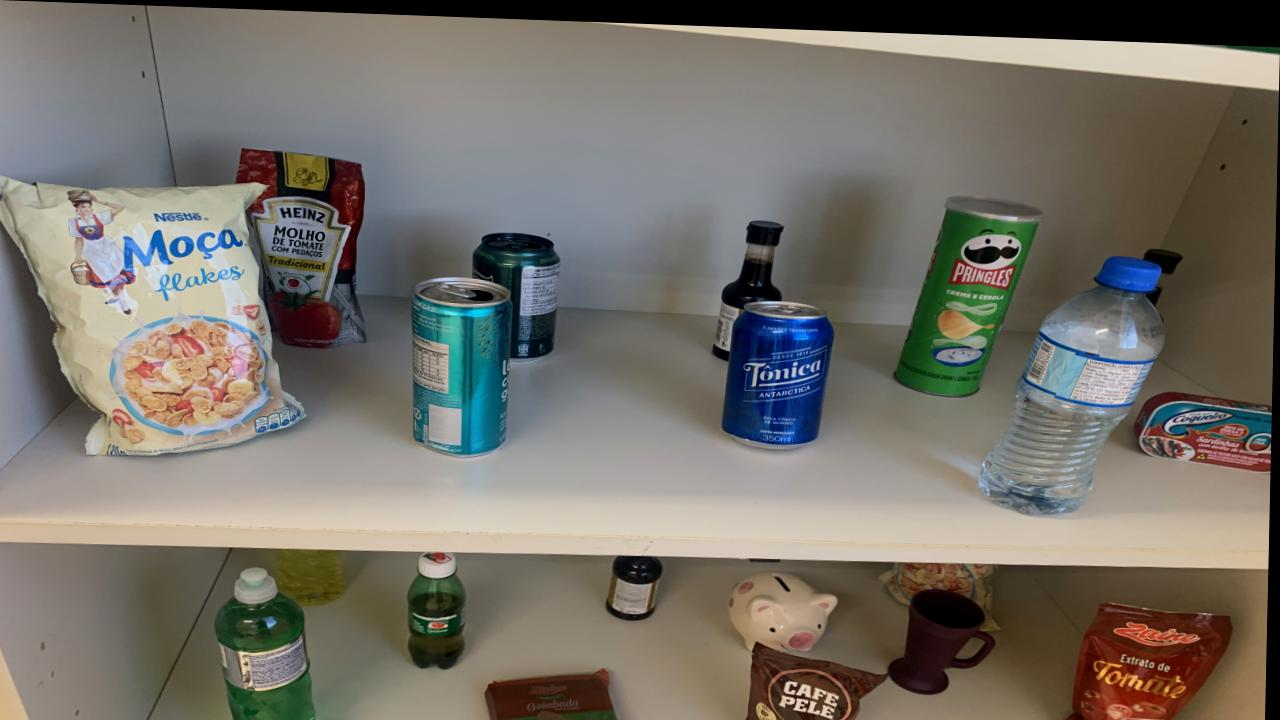Coffee-Pantry_Items: (748, 637, 889, 720)
Detergent-Cleanup_Items: (217, 565, 318, 720), (278, 547, 348, 604)
English_Sauce-Pantry_Items: (714, 214, 784, 353), (610, 551, 666, 615), (1144, 240, 1184, 265), (1148, 276, 1163, 296)
Flakes-Snacks: (0, 176, 308, 455), (880, 555, 1002, 624)
Guarana-Drinks: (410, 547, 468, 666)
Guarana_Can-Drinks: (473, 228, 561, 359)
Guava-Snacks: (488, 665, 623, 720)
Pig_Safe-Miscellaneous: (730, 566, 840, 646)
Pringles-Snacks: (896, 189, 1042, 388)
Tea-Drinks: (412, 274, 513, 453)
Tomato_Sauce-Pantry_Items: (237, 146, 367, 345), (1061, 595, 1235, 720)
Tonic-Drinks: (723, 296, 835, 443)
Tuna_Can-Pantry_Items: (1136, 383, 1274, 463)
Water_Bottle-Drinks: (982, 248, 1165, 507)
